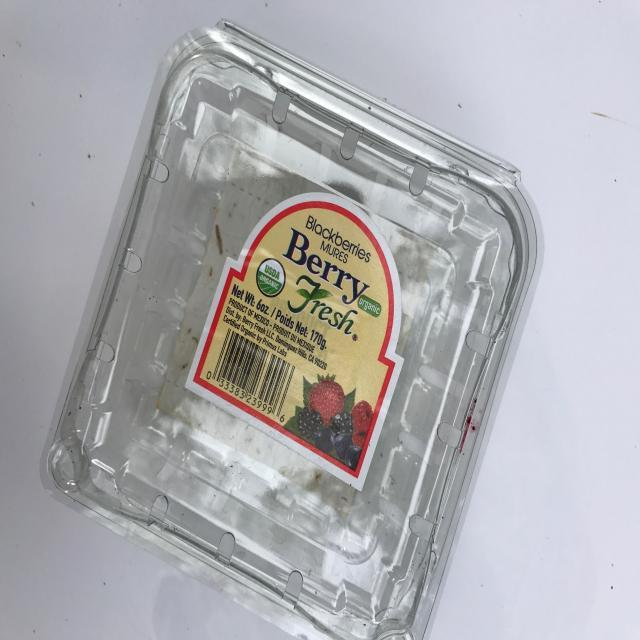plastic: (33, 12, 550, 640)
